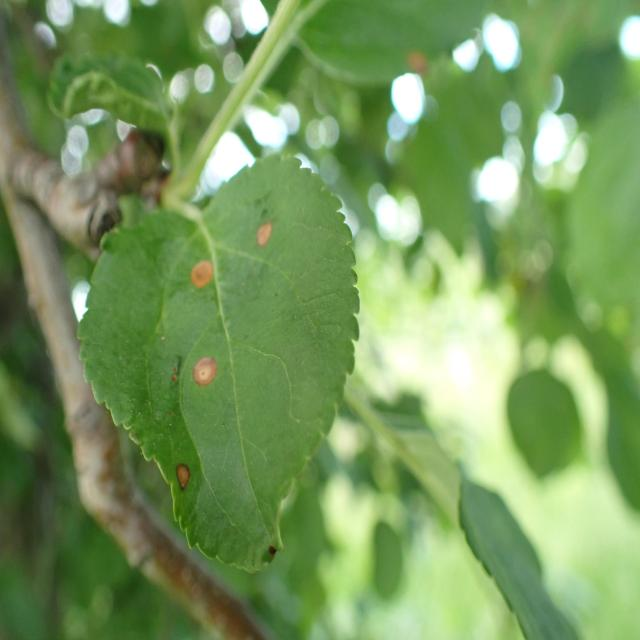Black Rot: (178, 242, 223, 300), (185, 355, 234, 394), (166, 452, 197, 510), (248, 204, 280, 259)
